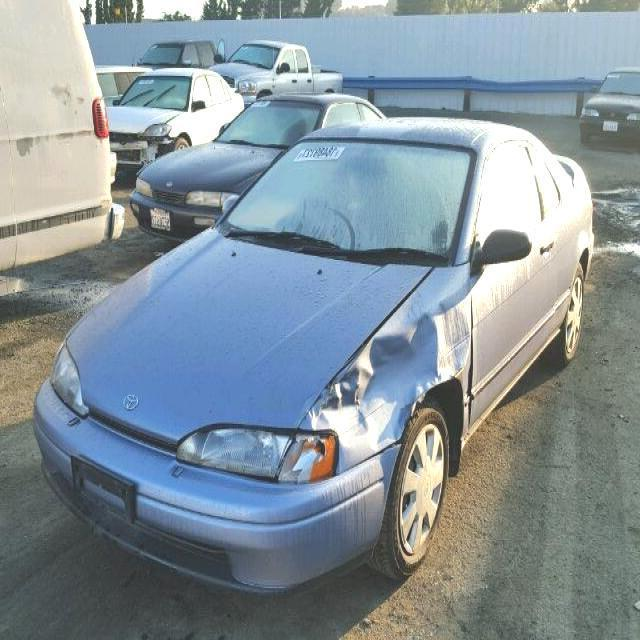minor: (297, 267, 474, 471)
